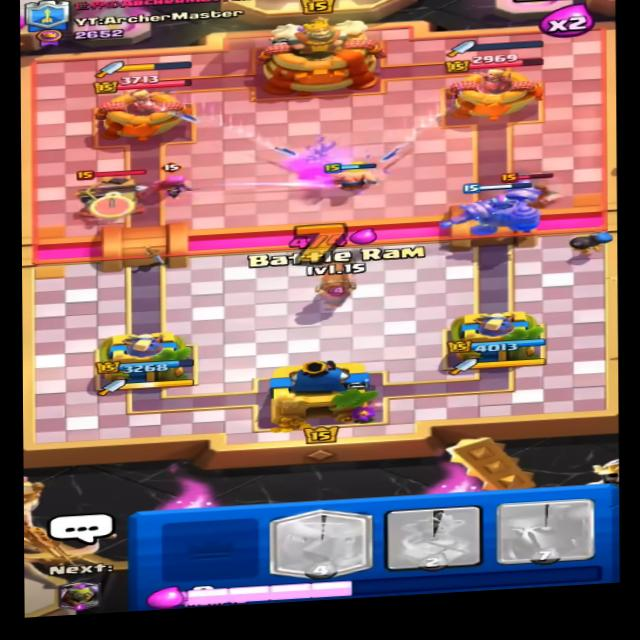evo-archers: (153, 156, 204, 196)
knight: (498, 169, 565, 209)
x-bow: (65, 161, 162, 224)
